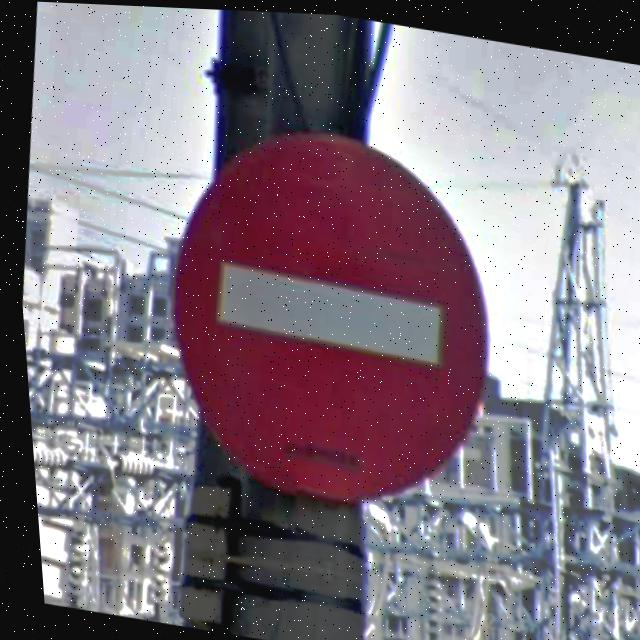noentry: (133, 102, 524, 529)
